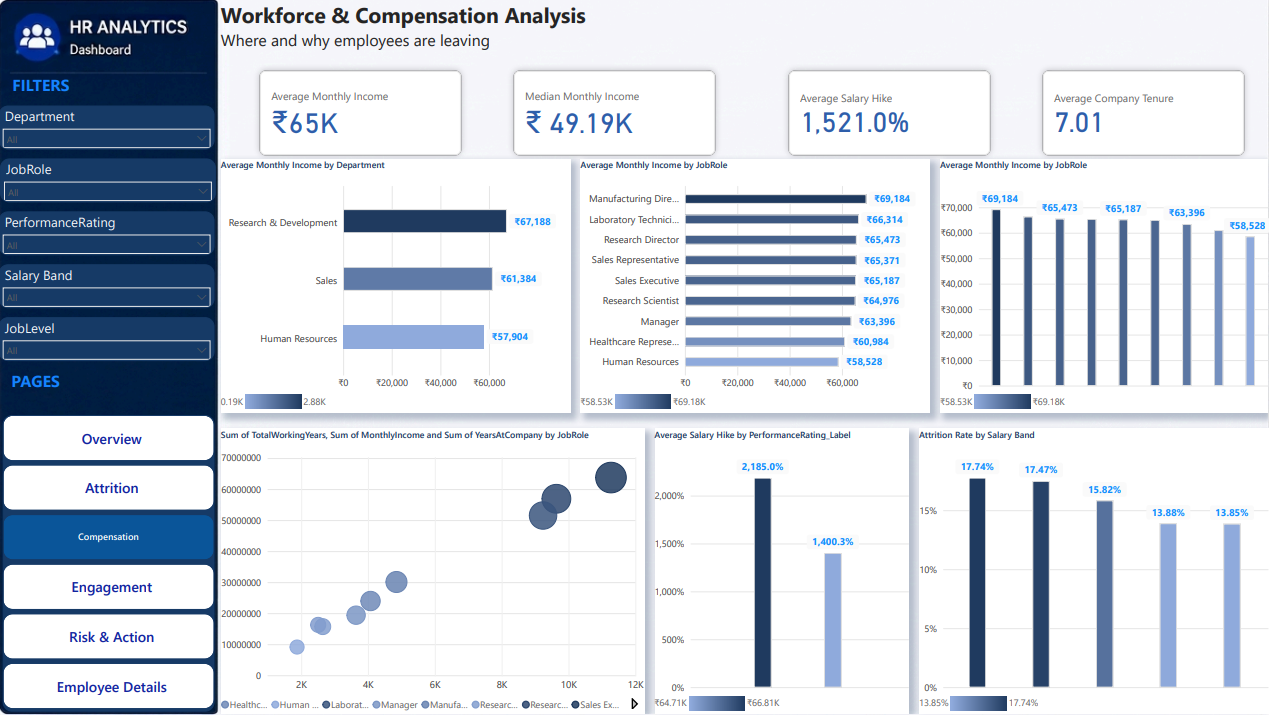

This screenshot's page, from the dashboard's own definition file:
{"tool":"powerbi","page":{"name":"Compensation","canvas":[1920,1080],"ordinal":2},"visuals":[{"type":"slicer","fields":{"Values":["HR_Analytics_Cleaned_data.JobRole"]},"box":[2,240,326,66],"z":0},{"type":"slicer","fields":{"Values":["HR_Analytics_Cleaned_data.PerformanceRating"]},"box":[0,320,326,66],"z":1000},{"type":"slicer","fields":{"Values":["HR_Analytics_Cleaned_data.Salary Band"]},"box":[0,400,326,66],"z":2000},{"type":"slicer","fields":{"Values":["HR_Analytics_Cleaned_data.JobLevel"]},"box":[0,480,326,66],"z":3000},{"type":"slicer","fields":{"Values":["HR_Analytics_Cleaned_data.Department"]},"box":[0,160,326,66],"z":4000},{"type":"textbox","box":[0,112,128,32],"z":5000},{"type":"cardVisual","fields":{"Data":["HR_Analytics_Cleaned_data.Average Monthly Income"]},"box":[384,96,326,150],"z":6000},{"type":"cardVisual","fields":{"Data":["HR_Analytics_Cleaned_data.Median Monthly Income"]},"box":[768,96,326,150],"z":7000},{"type":"cardVisual","fields":{"Data":["HR_Analytics_Cleaned_data.Average Salary Hike"]},"box":[1184,96,326,150],"z":8000},{"type":"cardVisual","fields":{"Data":["HR_Analytics_Cleaned_data.Average Company Tenure"]},"box":[1568,96,326,150],"z":9000},{"type":"clusteredBarChart","fields":{"Category":["HR_Analytics_Cleaned_data.Department"],"Y":["HR_Analytics_Cleaned_data.Average Monthly Income"]},"box":[336,240,528,384],"z":10000},{"type":"clusteredBarChart","fields":{"Category":["HR_Analytics_Cleaned_data.JobRole"],"Y":["HR_Analytics_Cleaned_data.Average Monthly Income"]},"box":[880,240,528,384],"z":11000},{"type":"columnChart","fields":{"Category":["HR_Analytics_Cleaned_data.JobRole"],"Y":["HR_Analytics_Cleaned_data.Average Monthly Income"]},"box":[1424,240,496,384],"z":12000},{"type":"scatterChart","fields":{"Series":["HR_Analytics_Cleaned_data.JobRole"],"Size":["Sum(HR_Analytics_Cleaned_data.YearsAtCompany)"],"X":["Sum(HR_Analytics_Cleaned_data.TotalWorkingYears)"],"Y":["Sum(HR_Analytics_Cleaned_data.MonthlyIncome)"]},"box":[336,648,640,432],"z":13000},{"type":"columnChart","fields":{"Category":["HR_Analytics_Cleaned_data.PerformanceRating_Label"],"Y":["HR_Analytics_Cleaned_data.Average Salary Hike"]},"box":[992,648,384,432],"z":14000},{"type":"columnChart","fields":{"Category":["HR_Analytics_Cleaned_data.Salary Band"],"Y":["HR_Analytics_Cleaned_data.Attrition Rate"]},"box":[1392,648,528,432],"z":15000},{"type":"pageNavigator","box":[6,628,320,448],"z":16000},{"type":"textbox","box":[0,560,112,48],"z":17000},{"type":"textbox","box":[336,0,944,80],"z":18000}]}

Visuals, with their boxes on the page's 1920x1080 design canvas (x1, y1, x2, y2). These are canvas units, not pixel positions in the 1274x721 screenshot, which may show the page scaled, cropped or inside an application window:
slicer - HR_Analytics_Cleaned_data.JobRole: <box>2,240,328,306</box>
slicer - HR_Analytics_Cleaned_data.PerformanceRating: <box>0,320,326,386</box>
slicer - HR_Analytics_Cleaned_data.Salary Band: <box>0,400,326,466</box>
slicer - HR_Analytics_Cleaned_data.JobLevel: <box>0,480,326,546</box>
slicer - HR_Analytics_Cleaned_data.Department: <box>0,160,326,226</box>
textbox: <box>0,112,128,144</box>
cardVisual - HR_Analytics_Cleaned_data.Average Monthly Income: <box>384,96,710,246</box>
cardVisual - HR_Analytics_Cleaned_data.Median Monthly Income: <box>768,96,1094,246</box>
cardVisual - HR_Analytics_Cleaned_data.Average Salary Hike: <box>1184,96,1510,246</box>
cardVisual - HR_Analytics_Cleaned_data.Average Company Tenure: <box>1568,96,1894,246</box>
clusteredBarChart - HR_Analytics_Cleaned_data.Department x HR_Analytics_Cleaned_data.Average Monthly Income: <box>336,240,864,624</box>
clusteredBarChart - HR_Analytics_Cleaned_data.JobRole x HR_Analytics_Cleaned_data.Average Monthly Income: <box>880,240,1408,624</box>
columnChart - HR_Analytics_Cleaned_data.JobRole x HR_Analytics_Cleaned_data.Average Monthly Income: <box>1424,240,1920,624</box>
scatterChart - HR_Analytics_Cleaned_data.JobRole x Sum(HR_Analytics_Cleaned_data.YearsAtCompany): <box>336,648,976,1080</box>
columnChart - HR_Analytics_Cleaned_data.PerformanceRating_Label x HR_Analytics_Cleaned_data.Average Salary Hike: <box>992,648,1376,1080</box>
columnChart - HR_Analytics_Cleaned_data.Salary Band x HR_Analytics_Cleaned_data.Attrition Rate: <box>1392,648,1920,1080</box>
pageNavigator: <box>6,628,326,1076</box>
textbox: <box>0,560,112,608</box>
textbox: <box>336,0,1280,80</box>
